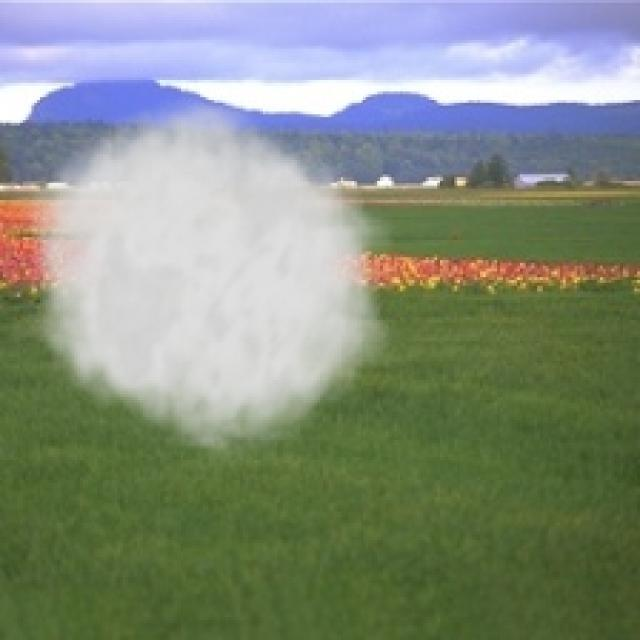Smoke: (12, 89, 394, 468)
